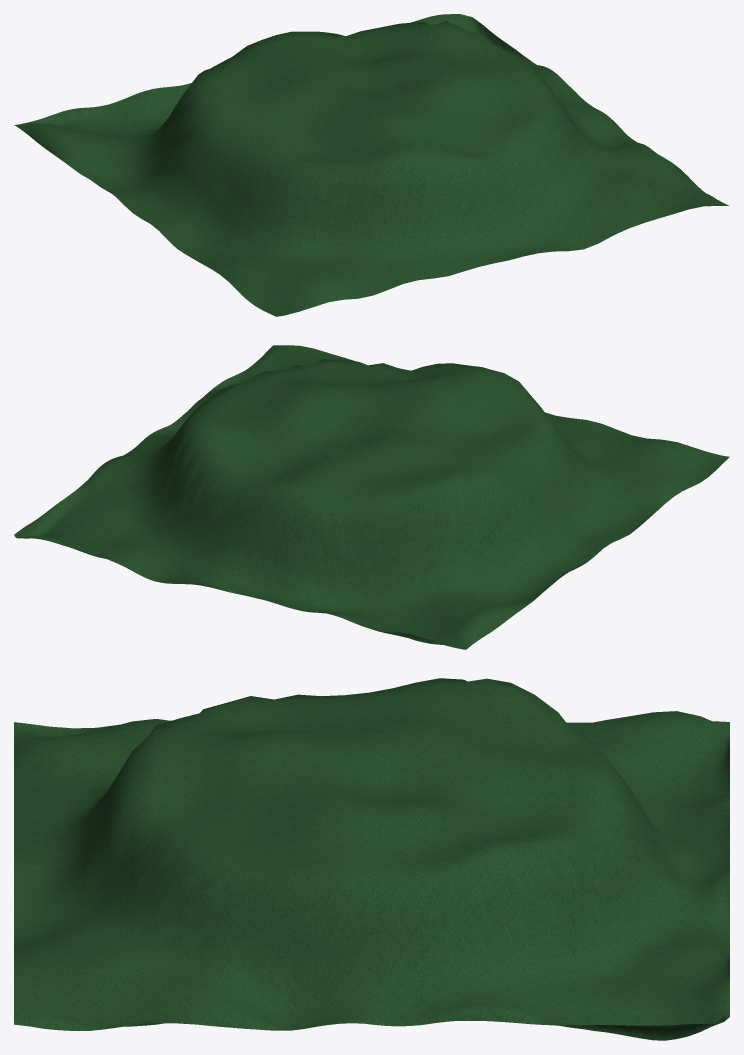
The model's file is landscape.gltf.
The picture shows the model from 3 angles, top to bottom: view 1: azimuth 30°, elevation 25°; view 2: azimuth 150°, elevation 25°; view 3: azimuth 270°, elevation 25°; orthographic projection. The views are drawn at different scales.
Parts seen in each view (by area): view 1: Plane.001; view 2: Plane.001; view 3: Plane.001.
Part boxes in pixels (x1,y1,x2,y2): Plane.001: (14,14,728,316); Plane.001: (14,345,729,649); Plane.001: (14,678,729,1040).
Bounding box in the file's own units: 140 × 29 × 140.
1 material, 1 textured.
